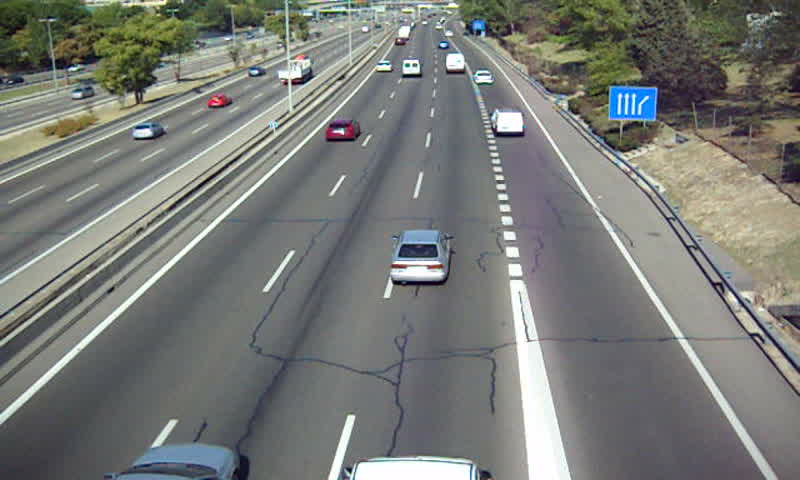car: (390, 232, 451, 283), (326, 119, 359, 141), (473, 68, 494, 84), (374, 60, 392, 72)
van: (492, 107, 524, 137), (446, 53, 466, 73), (402, 57, 421, 76)
